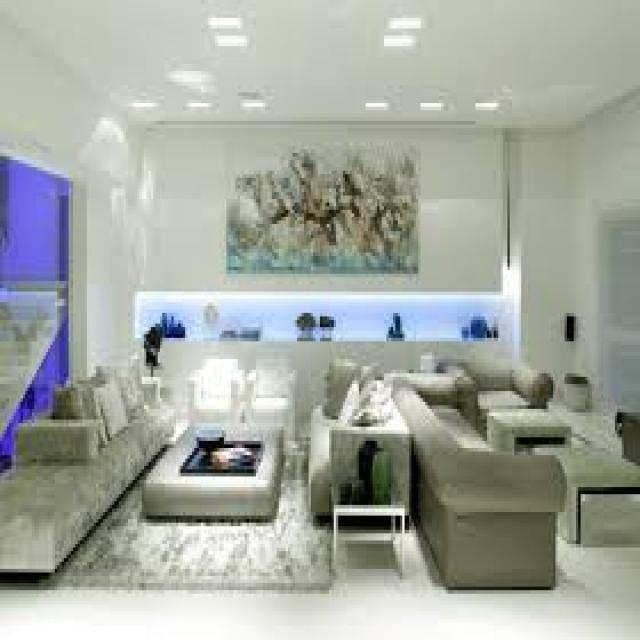Chair: (143, 419, 286, 543), (182, 347, 254, 430)
Sofa: (384, 355, 556, 621), (0, 343, 172, 594), (245, 356, 301, 436)
Table: (332, 450, 412, 580), (549, 434, 640, 543), (483, 394, 562, 485)
